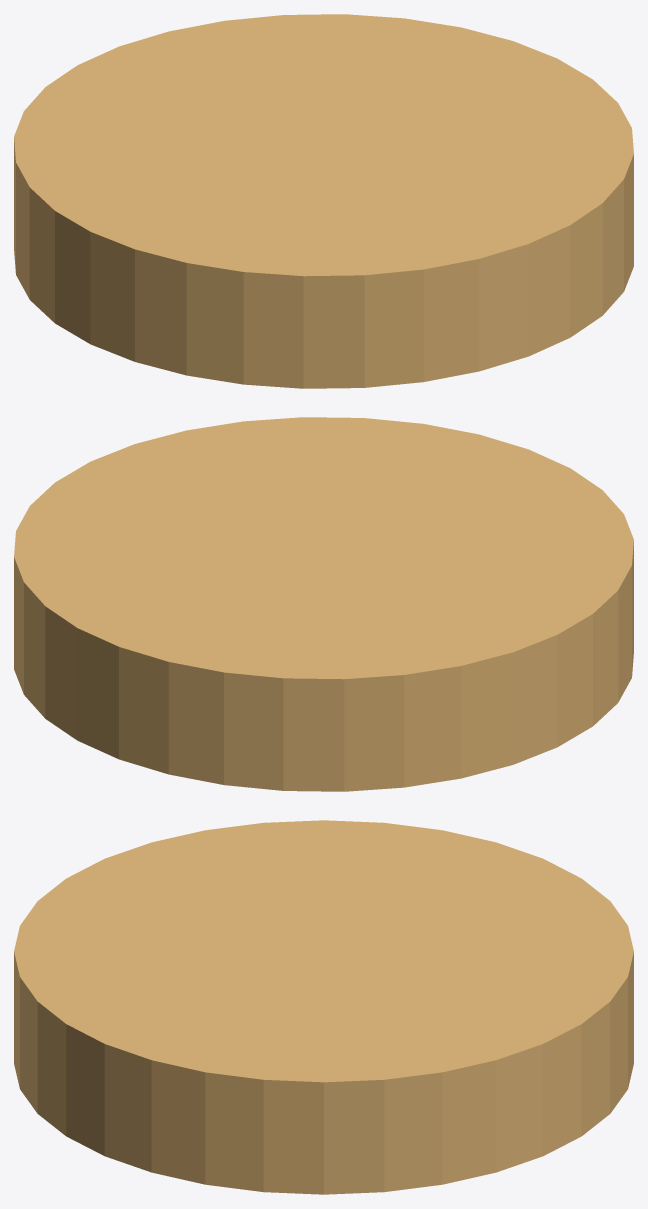
File: bottom_bun.glb
The picture shows the model from 3 angles, top to bottom: view 1: azimuth 30°, elevation 25°; view 2: azimuth 150°, elevation 25°; view 3: azimuth 270°, elevation 25°; orthographic projection.
Parts seen in each view (by area): view 1: Cylinder; view 2: Cylinder; view 3: Cylinder.
Boxes of the visible parts, x1,y1,x2,y2 form: Cylinder: [14, 14, 633, 388]; Cylinder: [14, 417, 633, 791]; Cylinder: [14, 820, 633, 1194].
Size of the model in its own units: 2 by 0.4 by 2.
